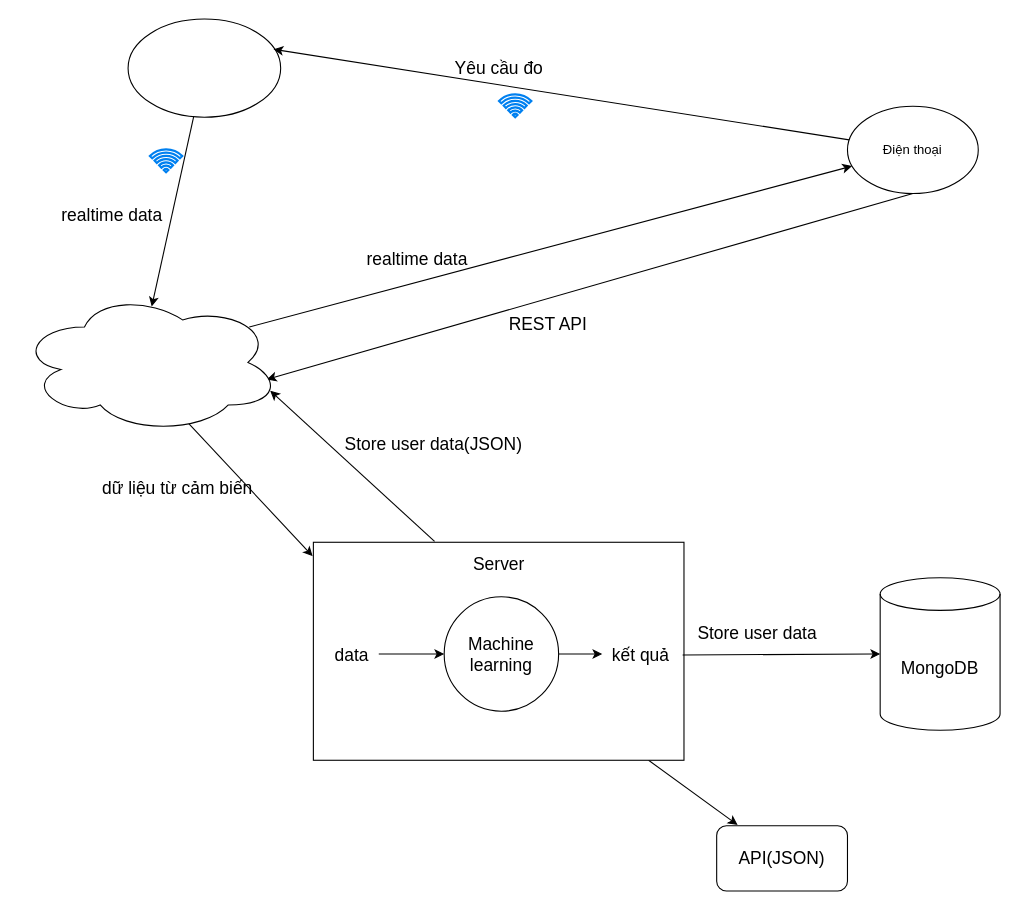
Some shapes in this 1019 by 910 pixel diagram are drawn without their labels. The centre of each missing label's shape, as x and y in pixels:
"Cảm biến" goes at point 204,67.
"Firebase" goes at point 149,361.
